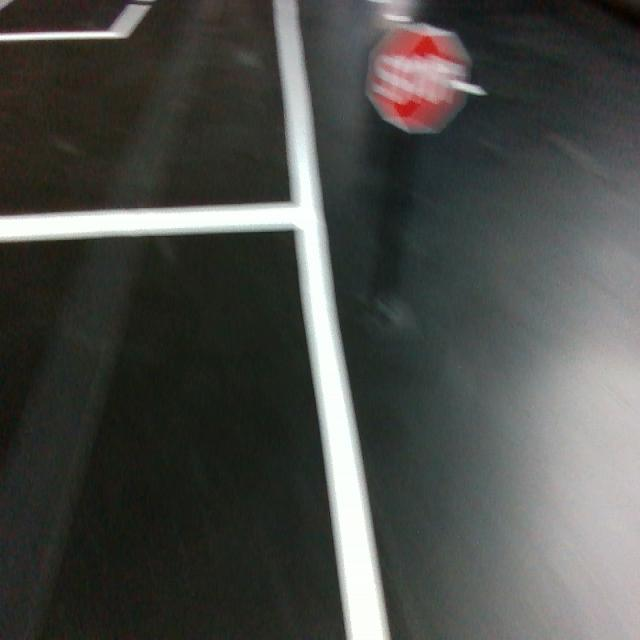stop-sign: (365, 22, 472, 135)
